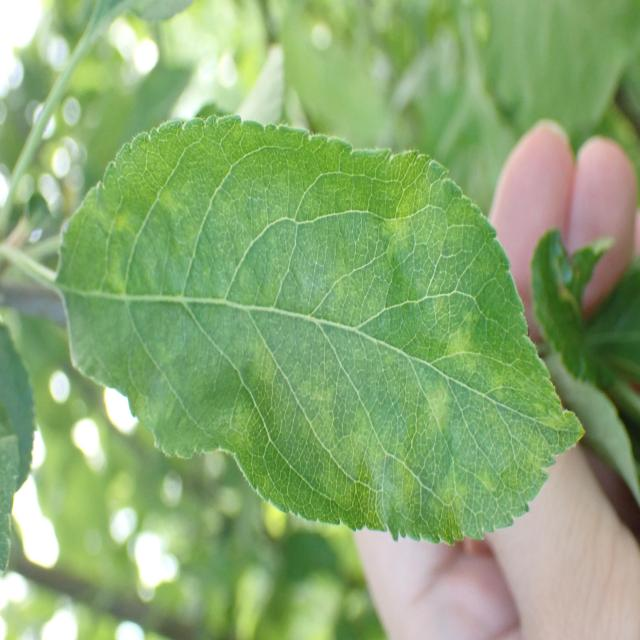scab: (86, 156, 523, 516)
